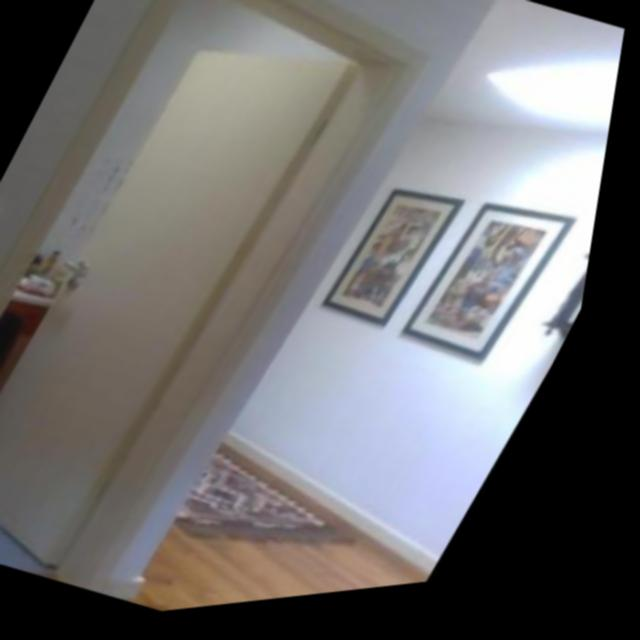door_handle: (57, 252, 114, 295)
